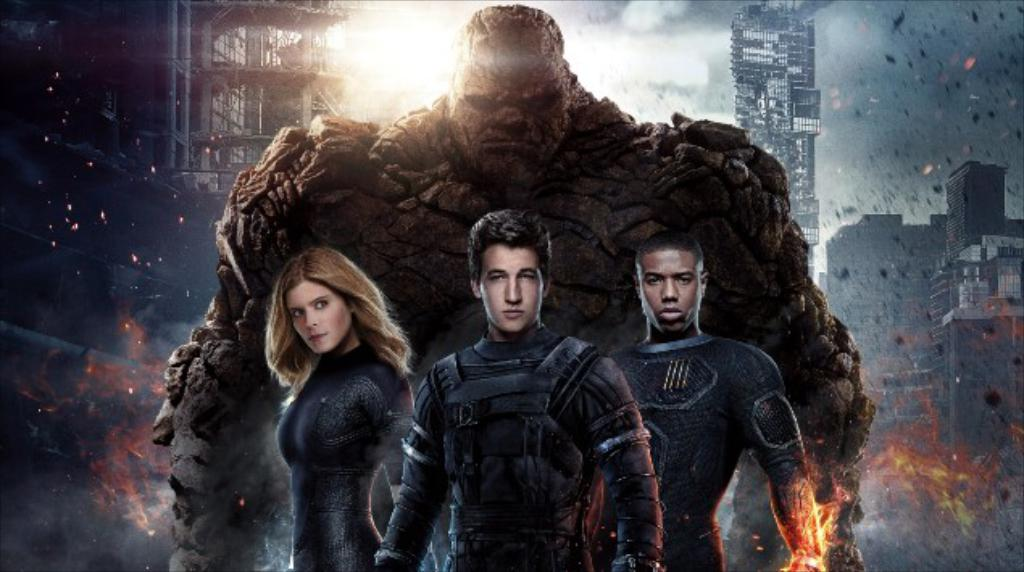face: (468, 232, 554, 343), (632, 240, 712, 344), (276, 275, 367, 366)
